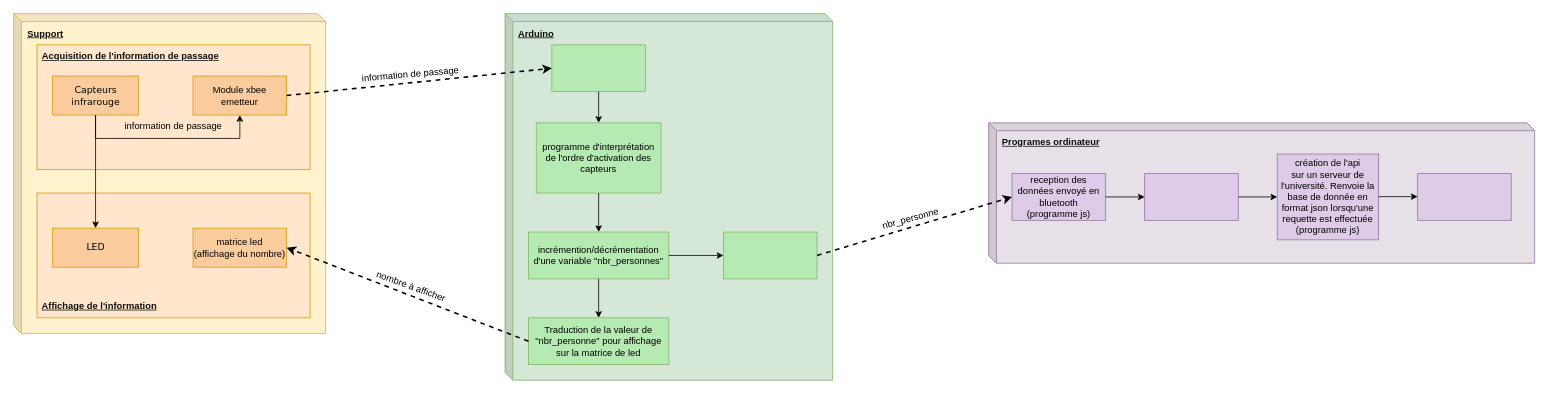
Some shapes in this 1548 by 394 pixel diagram are drawn without their labels. The centre of each missing label's shape, as x and y in pixels:
envoie en bluetooth la valeur de "nbr_personnes": point 770,255
Module xbee recepteur: point 598,68
Représentation des données obtenue par requettes serveurs dans un graphique: point 1464,196
stockage des données dans une base de donnée (programme js): point 1191,196
